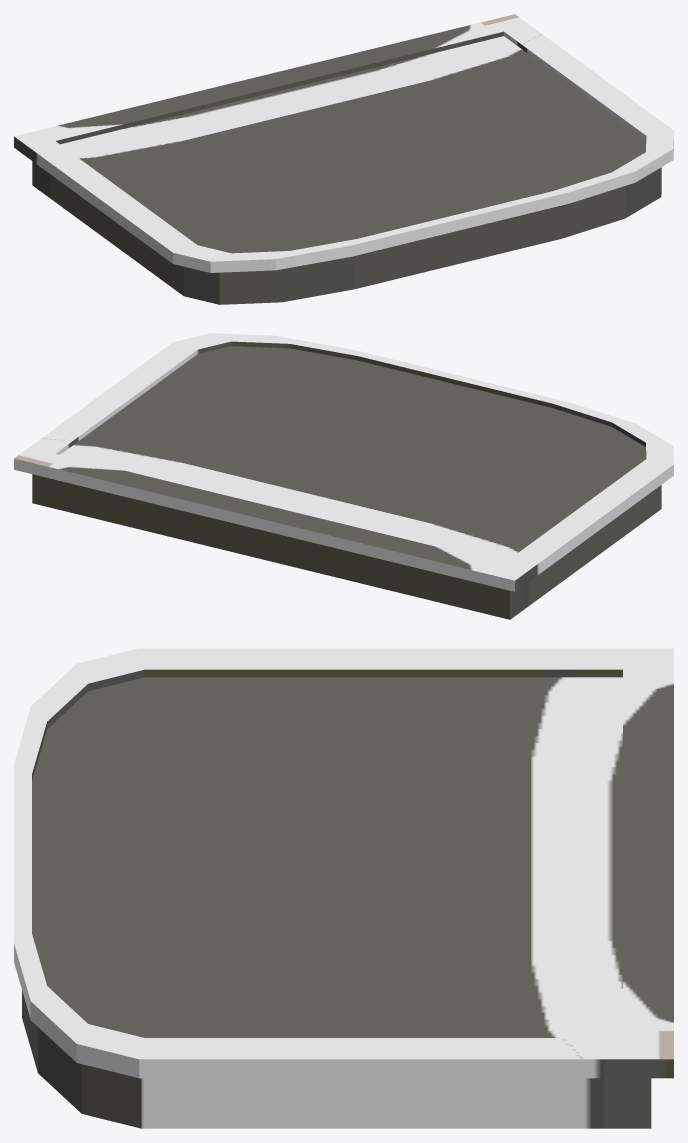
Rendered from steps02.fbx.
The picture shows the model from 3 angles, top to bottom: view 1: azimuth 30°, elevation 25°; view 2: azimuth 150°, elevation 25°; view 3: azimuth 270°, elevation 25°; orthographic projection. The views are drawn at different scales.
Visible parts, largest first — view 1: steps02; view 2: steps02; view 3: steps02.
Part boxes in pixels (x1=…): steps02: x1=14, y1=14, x2=673, y2=304; steps02: x1=14, y1=333, x2=673, y2=619; steps02: x1=14, y1=648, x2=673, y2=1128.
Bounding box in the file's own units: 512 × 45.77 × 347.
Materials: 1 (1 with a texture image).
